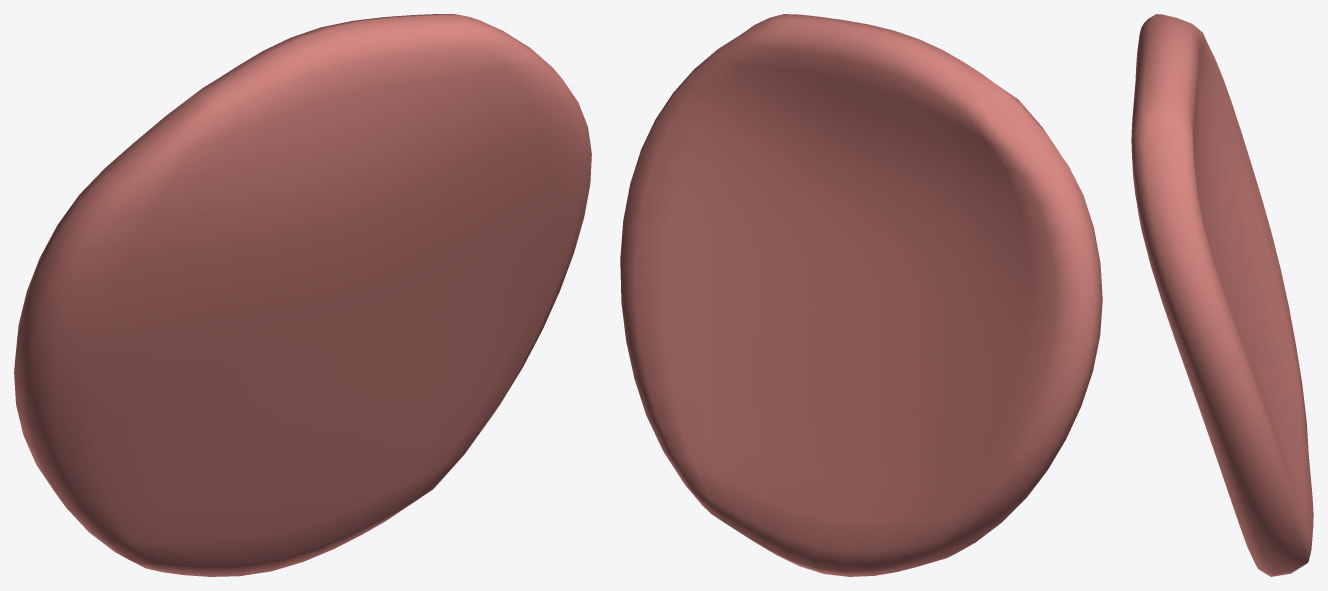
3 views of the same model, side by side, from view 1: azimuth 30°, elevation 25°; view 2: azimuth 150°, elevation 25°; view 3: azimuth 270°, elevation 25° (orthographic). The views are drawn at different scales.
Parts seen in each view (by area): view 1: ZA_cf206b954789ac84; view 2: ZA_cf206b954789ac84; view 3: ZA_cf206b954789ac84.
Boxes of the visible parts, <box> form: ZA_cf206b954789ac84: <box>14,14,591,576</box>; ZA_cf206b954789ac84: <box>620,14,1102,576</box>; ZA_cf206b954789ac84: <box>1131,14,1313,576</box>.
Bounding box in the file's own units: 0.0181 × 0.0182 × 0.00588.
